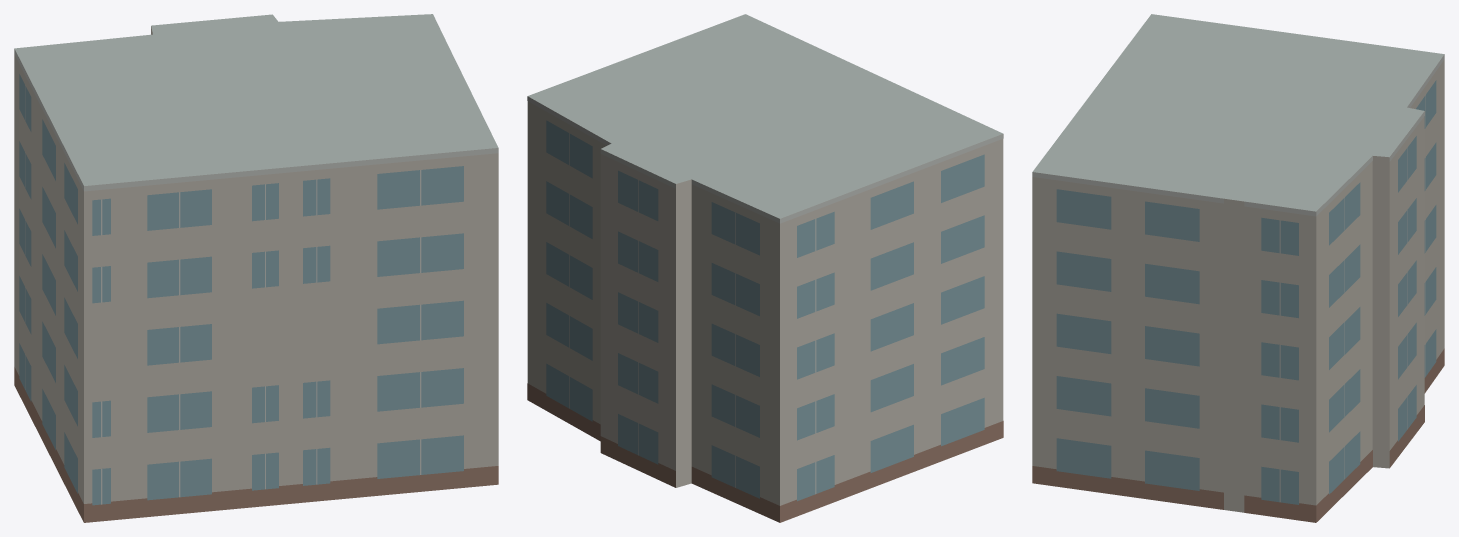
File: survey-upis-32753281.glb
The picture shows the model from 3 angles, left to right: view 1: azimuth 30°, elevation 25°; view 2: azimuth 150°, elevation 25°; view 3: azimuth 270°, elevation 25°; orthographic projection. The views are drawn at different scales.
Parts seen in each view (by area): view 1: survey-upis-32753281.tmp; view 2: survey-upis-32753281.tmp; view 3: survey-upis-32753281.tmp.
Boxes of the visible parts, x1,y1,x2,y2 form: survey-upis-32753281.tmp: (14, 14, 498, 522); survey-upis-32753281.tmp: (527, 14, 1003, 522); survey-upis-32753281.tmp: (1032, 14, 1444, 522).
Size of the model in its own units: 20.98 by 15.4 by 18.49.
